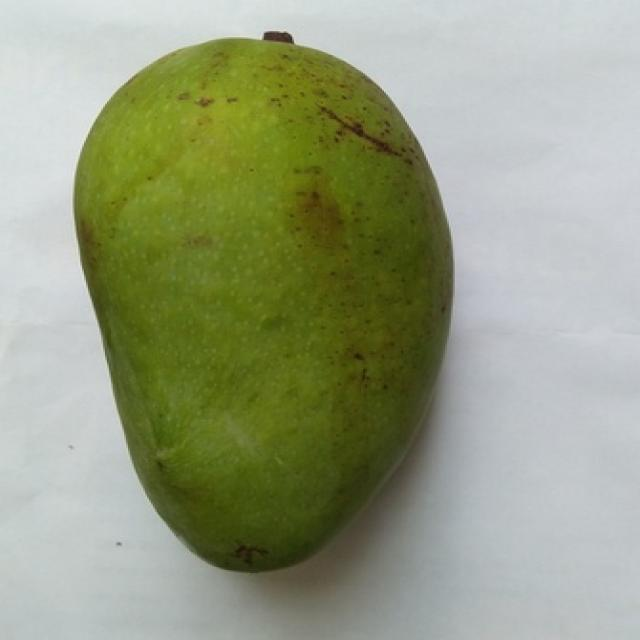Mango: (75, 33, 451, 572)
